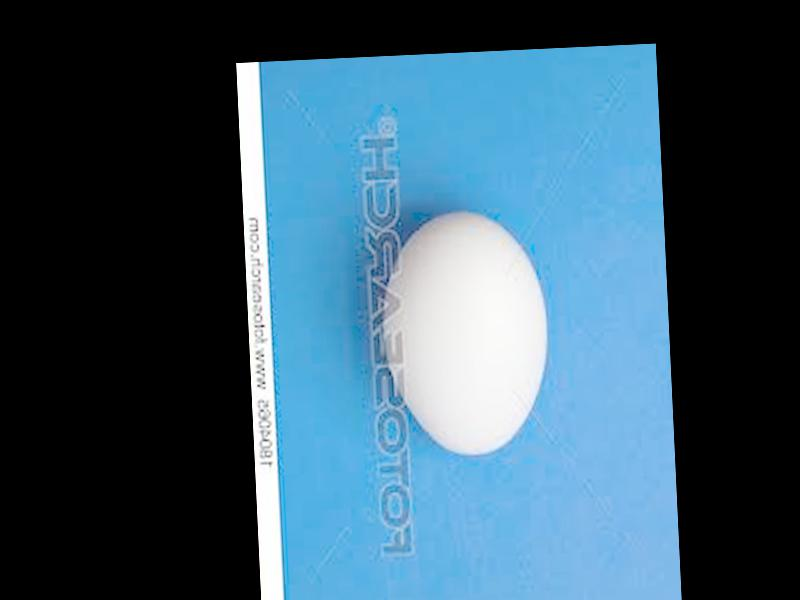Eggs: (373, 208, 551, 458)
